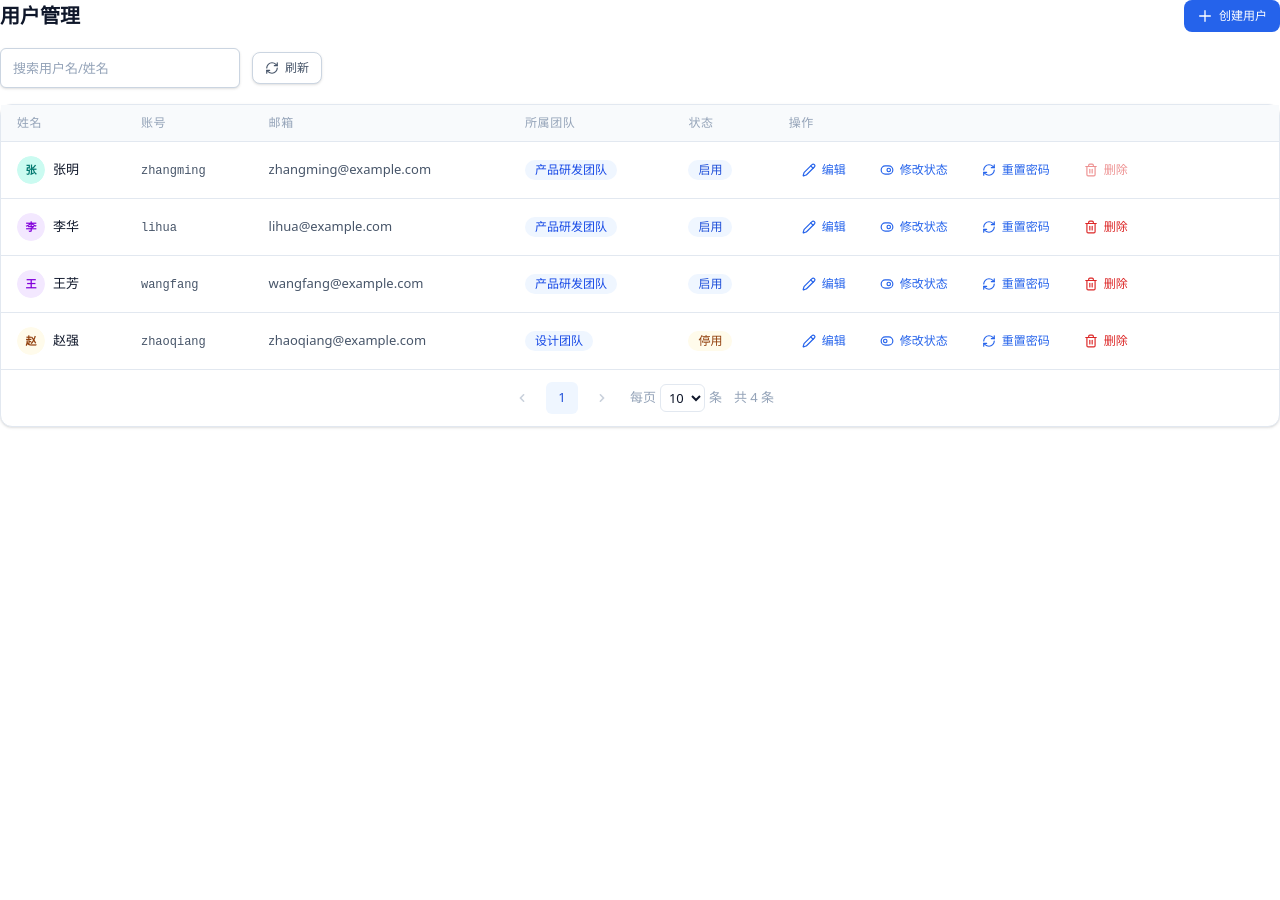
UserManagementPage › reset password dialog › opens reset password dialog with user info
Expected: the text "张明" is shown, [53,160,79,180]
Note: Click reset on second user (李华)
Click the button "重置密码" in the row of "李华". click: click(1016, 227)
box: [969,211,1063,243]
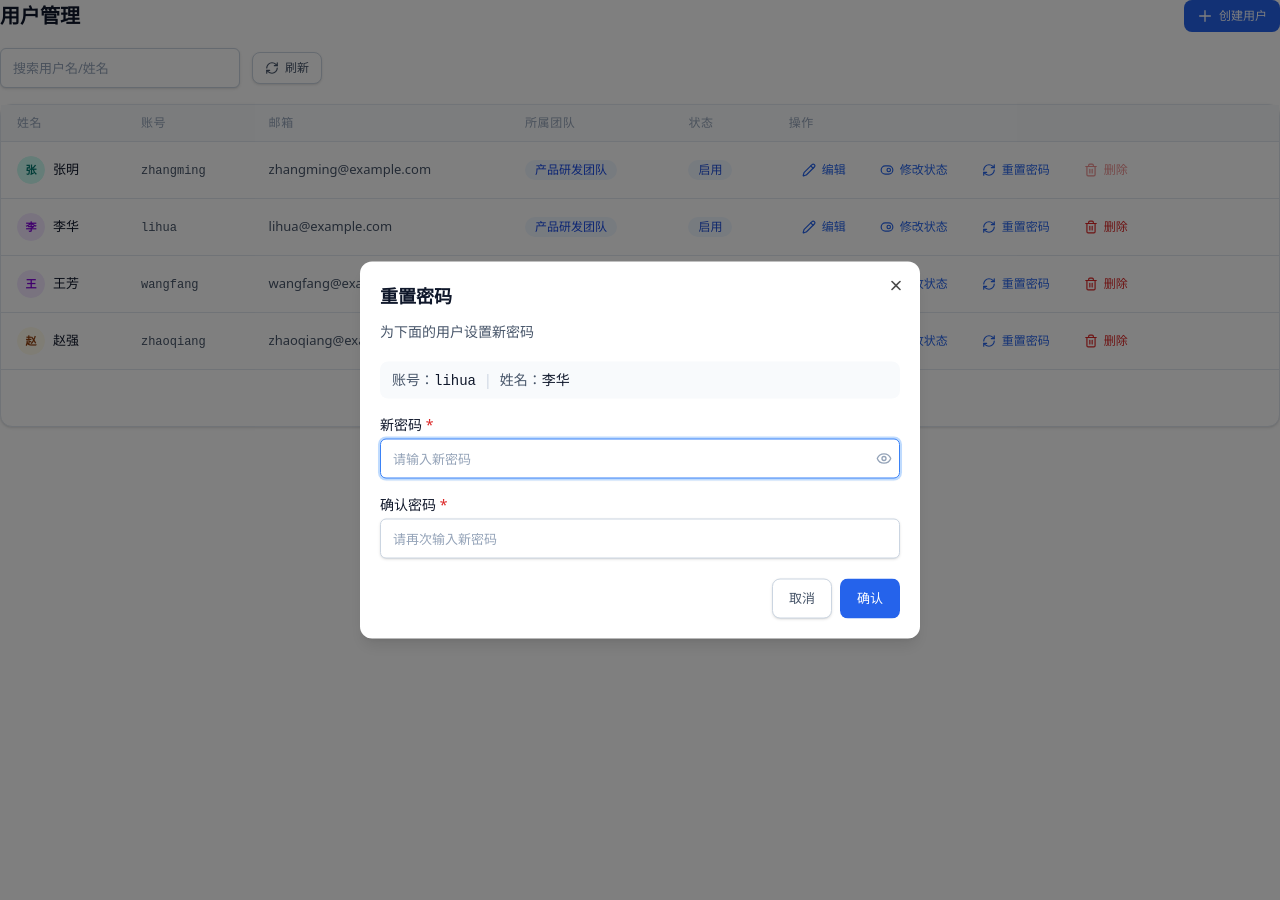
Expected: the text "为下面的用户设置新密码" is shown, [380,322,534,340]
